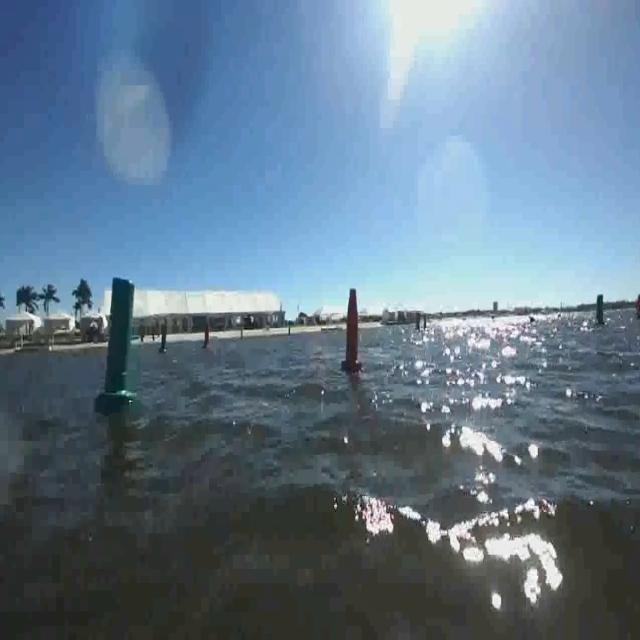green-column-buoy: (96, 276, 137, 414), (592, 291, 604, 326), (160, 322, 171, 354)
red-column-buoy: (342, 286, 364, 373), (203, 324, 213, 350), (635, 293, 640, 316)
